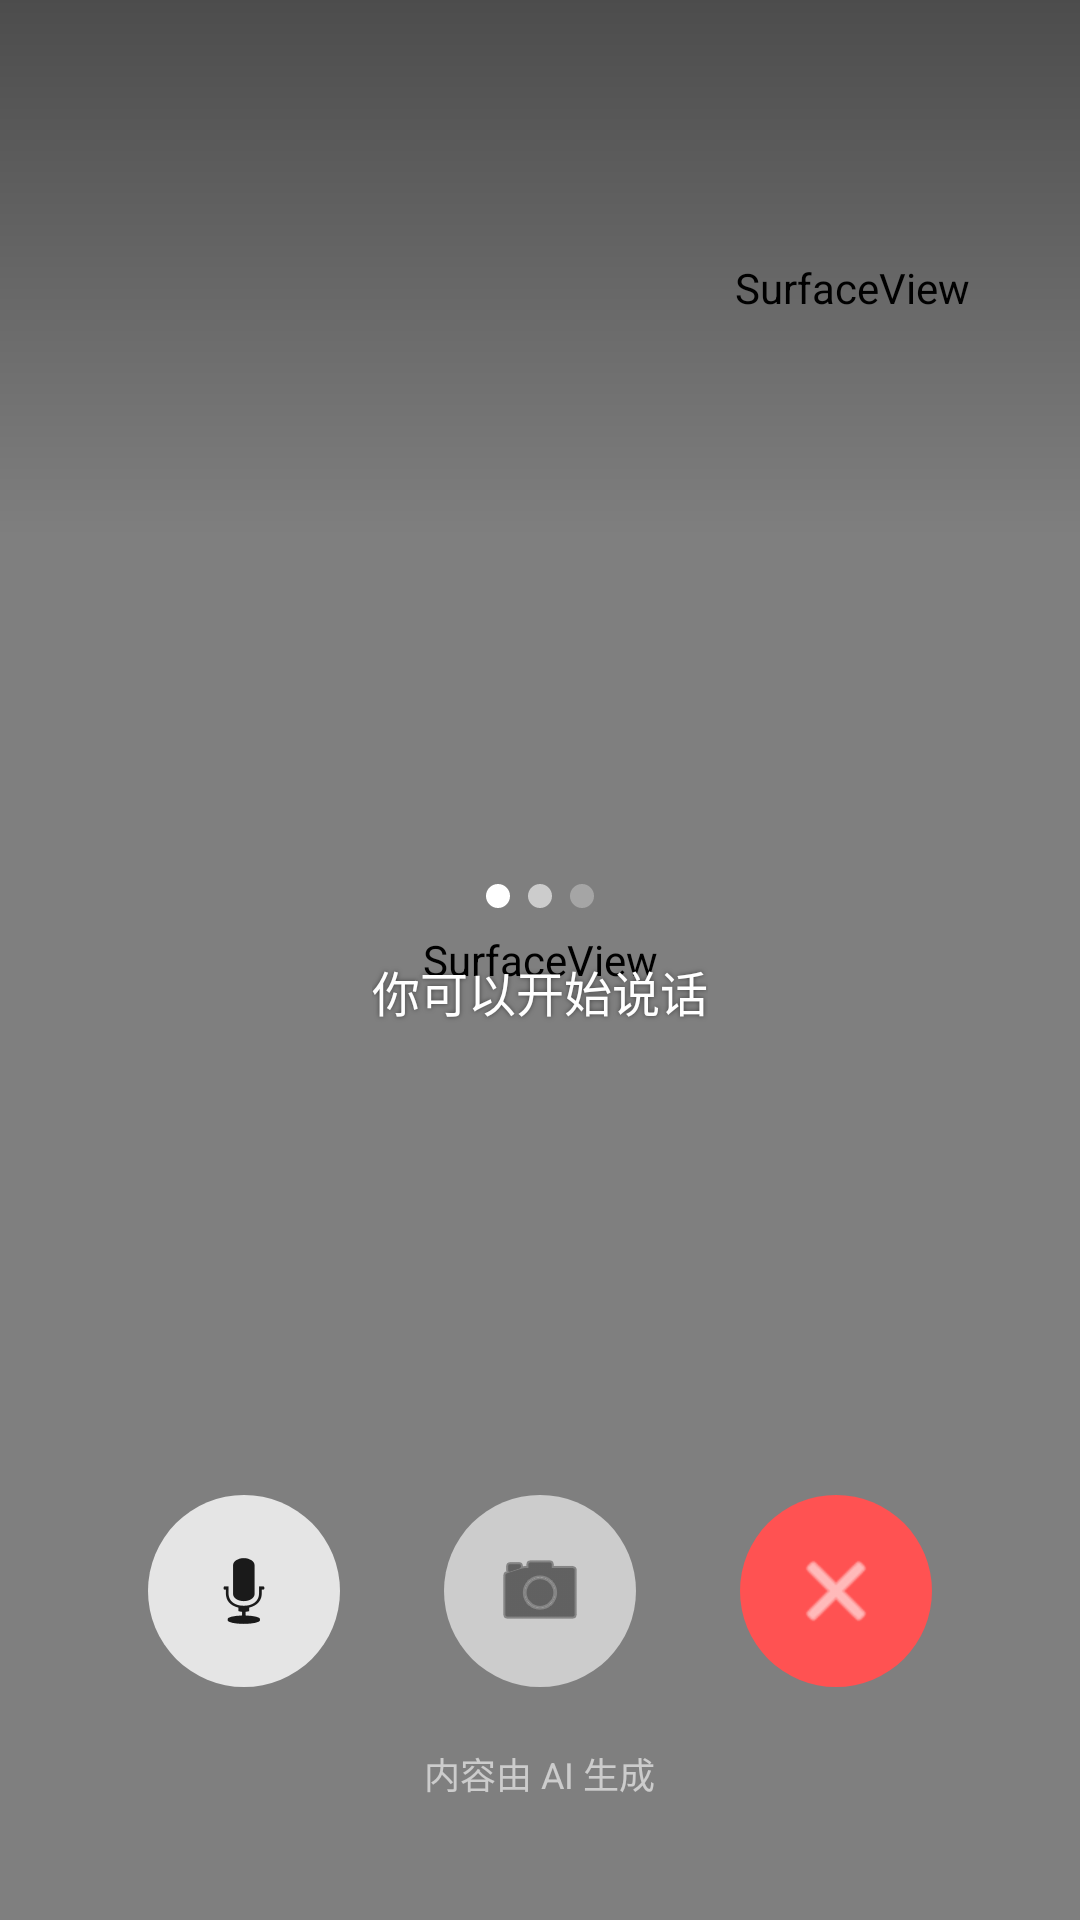

Screen size 1080px×1920px. Icon name, then its center in pixels as point (x, y):
切换摄像头: point (540, 1591)
挂断: point (836, 1591)
语音: point (244, 1591)
